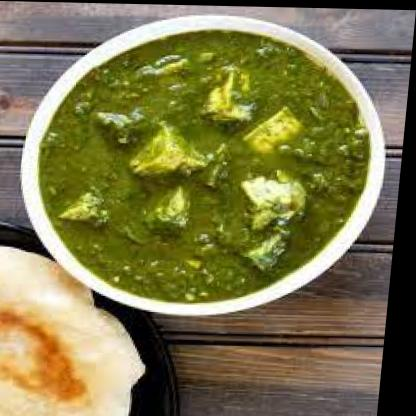palak_paneer: (31, 25, 382, 304)
